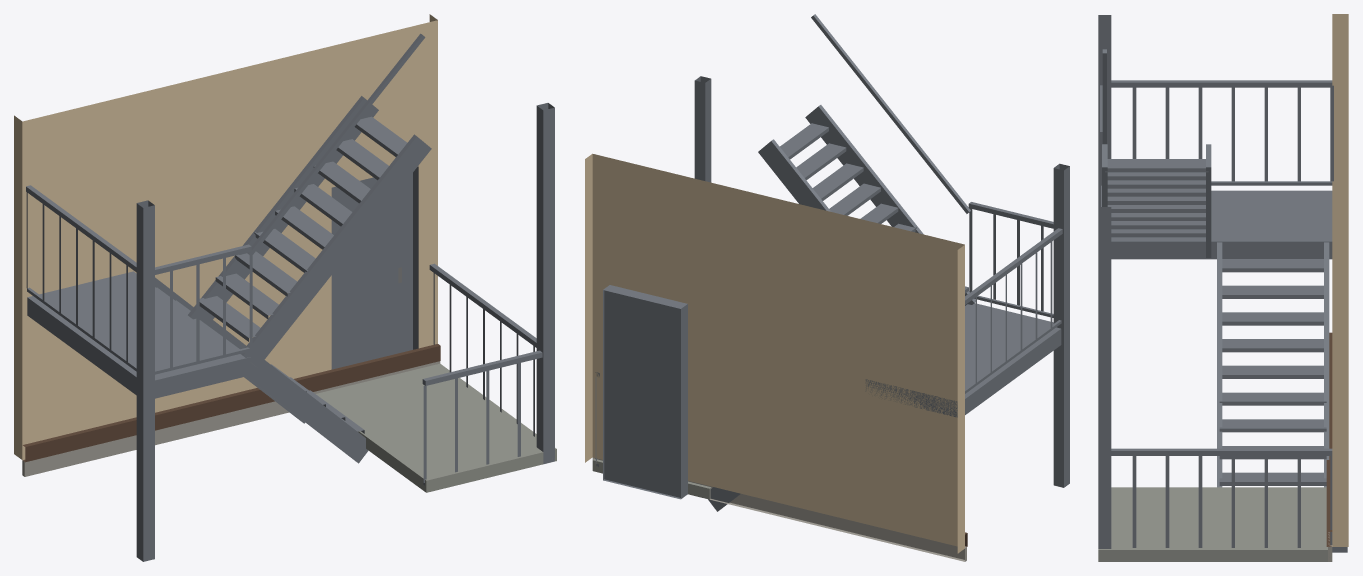
The model's file is base-stair.fbx.
The picture shows the model from 3 angles, left to right: view 1: azimuth 30°, elevation 25°; view 2: azimuth 150°, elevation 25°; view 3: azimuth 270°, elevation 25°; orthographic projection. The views are drawn at different scales.
Parts seen in each view (by area): view 1: a2009/200/base-stair; view 2: a2009/200/base-stair; view 3: a2009/200/base-stair.
Boxes of the visible parts, left/top/right/bottom form: a2009/200/base-stair: left=14, top=14, right=556, bottom=561; a2009/200/base-stair: left=585, top=14, right=1069, bottom=561; a2009/200/base-stair: left=1098, top=14, right=1348, bottom=561.
Bounding box in the file's own units: 4.3 × 4.64 × 2.28.
